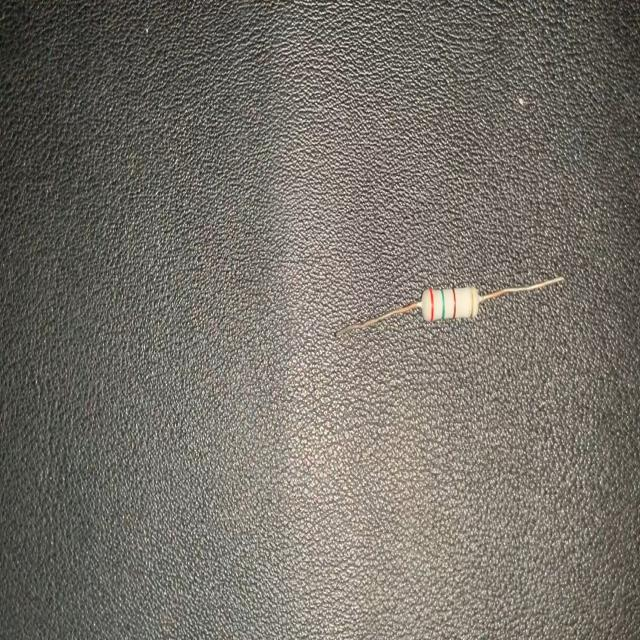resistor: (339, 274, 563, 345)
